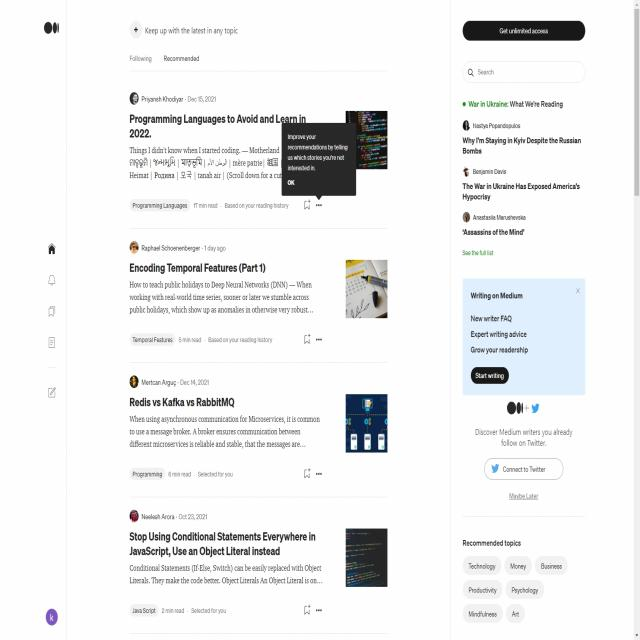search: (461, 58, 588, 84)
side-panel: (35, 1, 67, 640)
